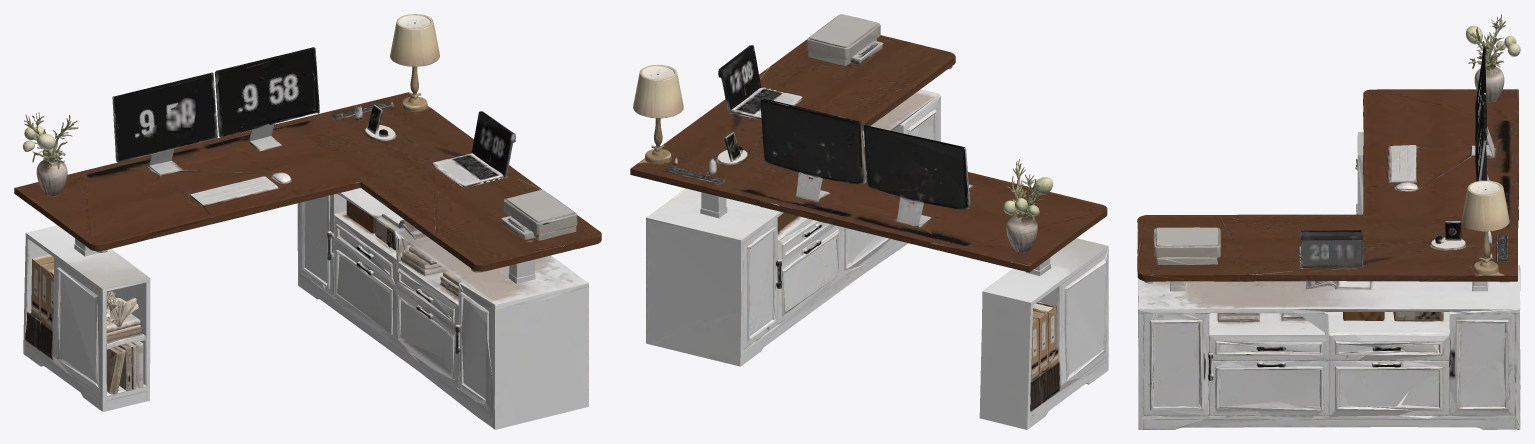
Rendered from wayfair-com-furniture-pdp-inbox-zero-l-shaped-electric-stand-321916.glb.
The picture shows the model from 3 angles, left to right: view 1: azimuth 30°, elevation 25°; view 2: azimuth 150°, elevation 25°; view 3: azimuth 270°, elevation 25°; orthographic projection. The views are drawn at different scales.
Parts seen in each view (by area): view 1: Mesh_0; view 2: Mesh_0; view 3: Mesh_0.
Boxes of the visible parts, left/top/right/bottom form: Mesh_0: left=14, top=14, right=601, bottom=429; Mesh_0: left=630, top=14, right=1108, bottom=429; Mesh_0: left=1137, top=14, right=1520, bottom=429.
Size of the model in its own units: 1.85 by 1.1 by 1.56.
Materials: 1 (1 with a texture image).
